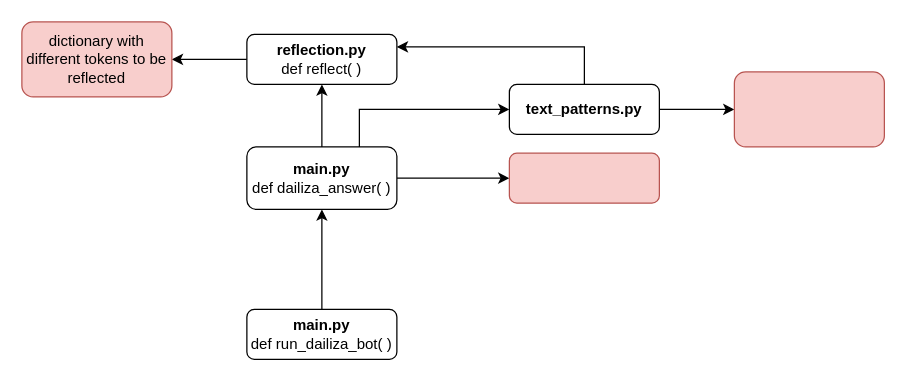
Some shapes in this 906 by 381 pixel diagram are drawn without their labels. The centre of each missing label's shape, as x and y in pixels:
"list with all regex statements and chat options" belongs at point 808,109.
"Parameter: - user_input" belongs at point 583,177.
